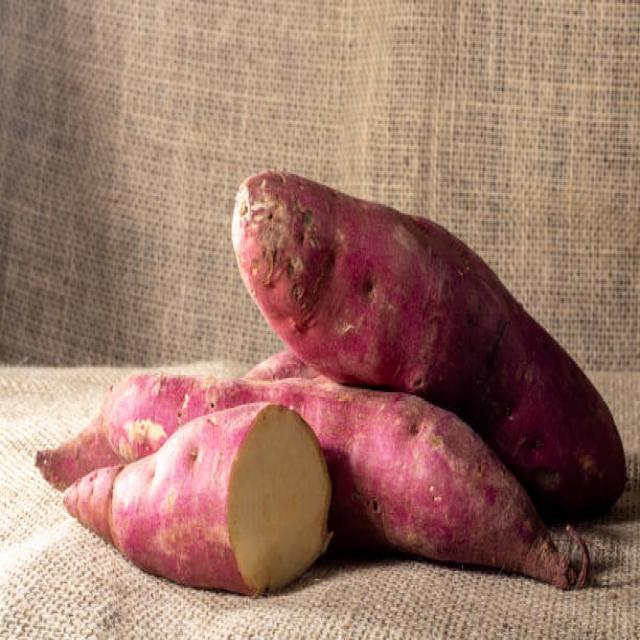Sweet Potato: (235, 170, 584, 393), (329, 391, 581, 600), (68, 404, 328, 598)
